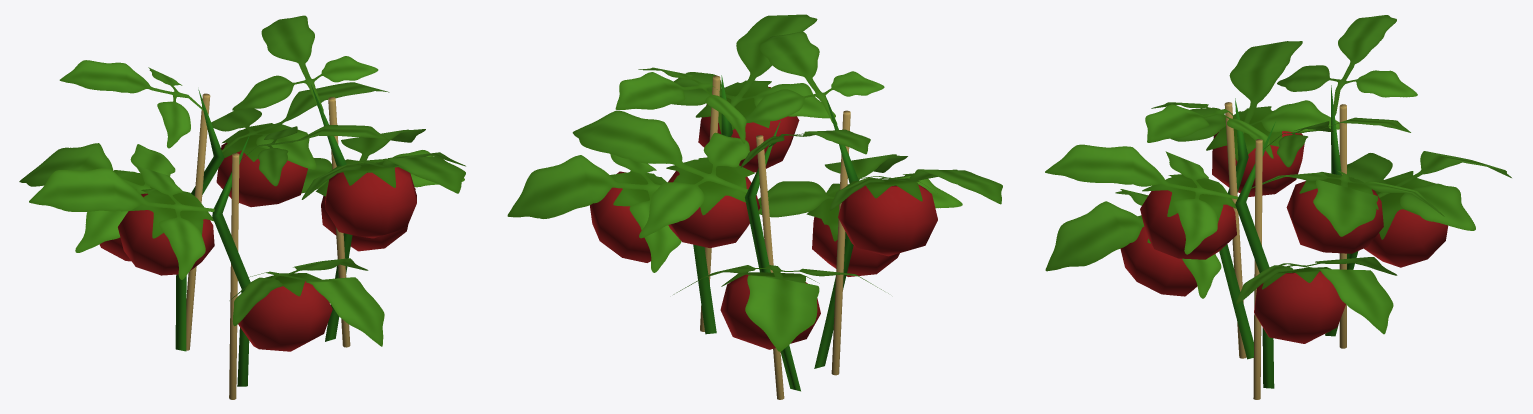
File: tomato.obj
The picture shows the model from 3 angles, left to right: view 1: azimuth 30°, elevation 25°; view 2: azimuth 150°, elevation 25°; view 3: azimuth 270°, elevation 25°; orthographic projection. The views are drawn at different scales.
Parts seen in each view (by area): view 1: Tomato_Plants; view 2: Tomato_Plants; view 3: Tomato_Plants.
Boxes of the visible parts, x1,y1,x2,y2 form: Tomato_Plants: (19,15,465,399); Tomato_Plants: (507,14,1002,399); Tomato_Plants: (1045,15,1511,399).
Bounding box in the file's own units: 1.76 × 1.15 × 1.65.
